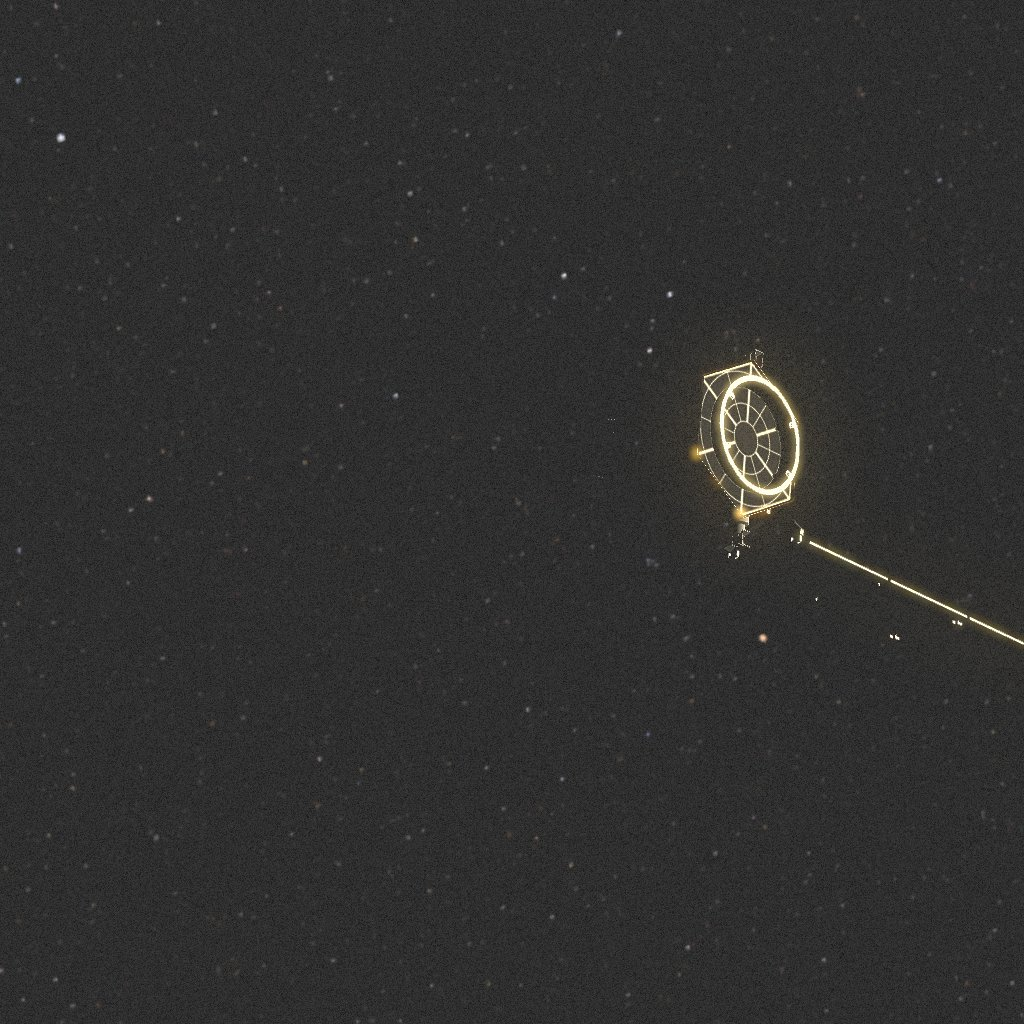earth_observation_sat_1: (582, 349, 1024, 675)
